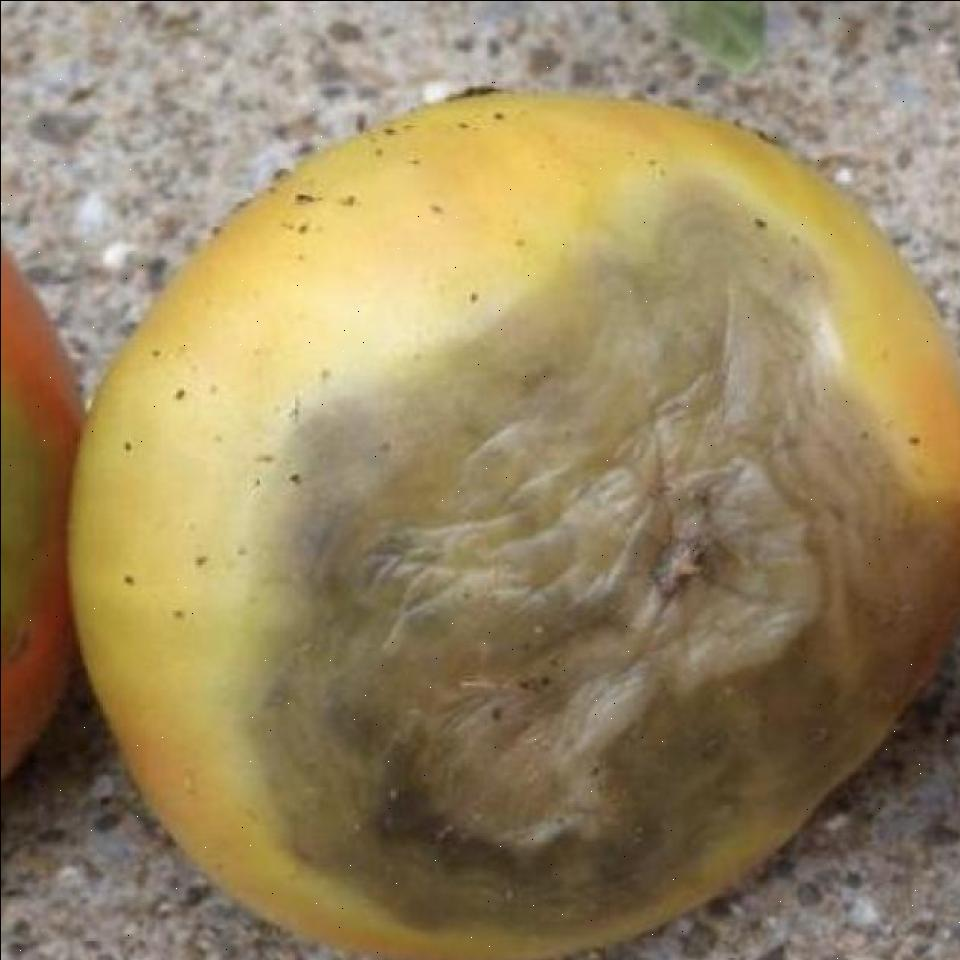Blossom_end_rot: (254, 192, 940, 940)
